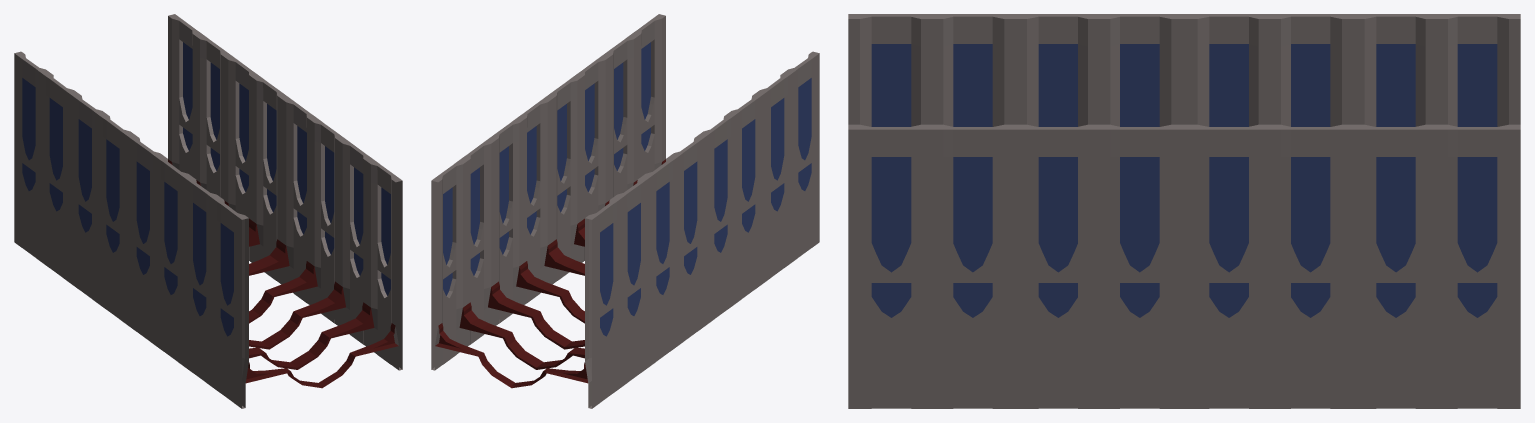
File: arches.fbx
The picture shows the model from 3 angles, left to right: view 1: azimuth 30°, elevation 25°; view 2: azimuth 150°, elevation 25°; view 3: azimuth 270°, elevation 25°; orthographic projection. The views are drawn at different scales.
Parts seen in each view (by area): view 1: Cube; view 2: Cube; view 3: Cube.
Part boxes in pixels (box(x1,y1,x2,y2)): Cube: box(14, 14, 402, 408); Cube: box(431, 14, 819, 408); Cube: box(848, 14, 1520, 408).
Size of the model in its own units: 6576 by 7397 by 16135.
